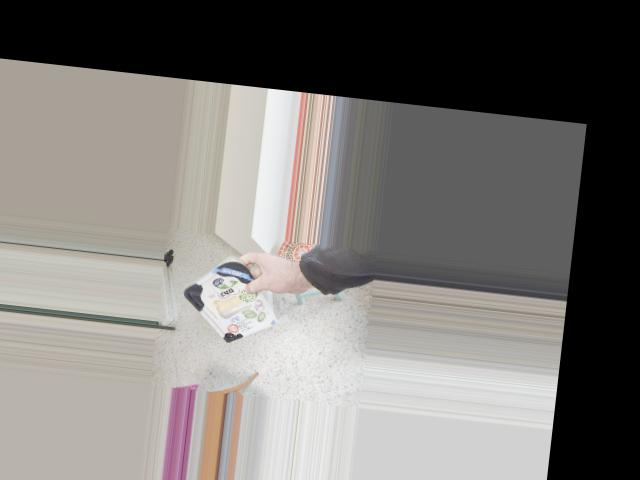cheese: (191, 234, 271, 351)
